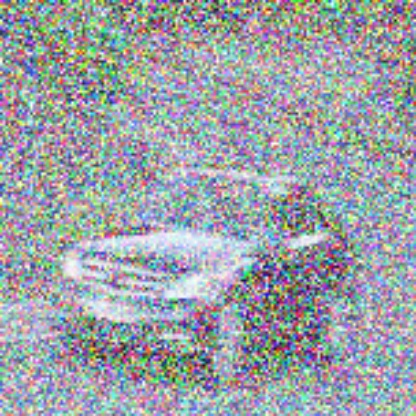Vehicle: (54, 166, 354, 385)
